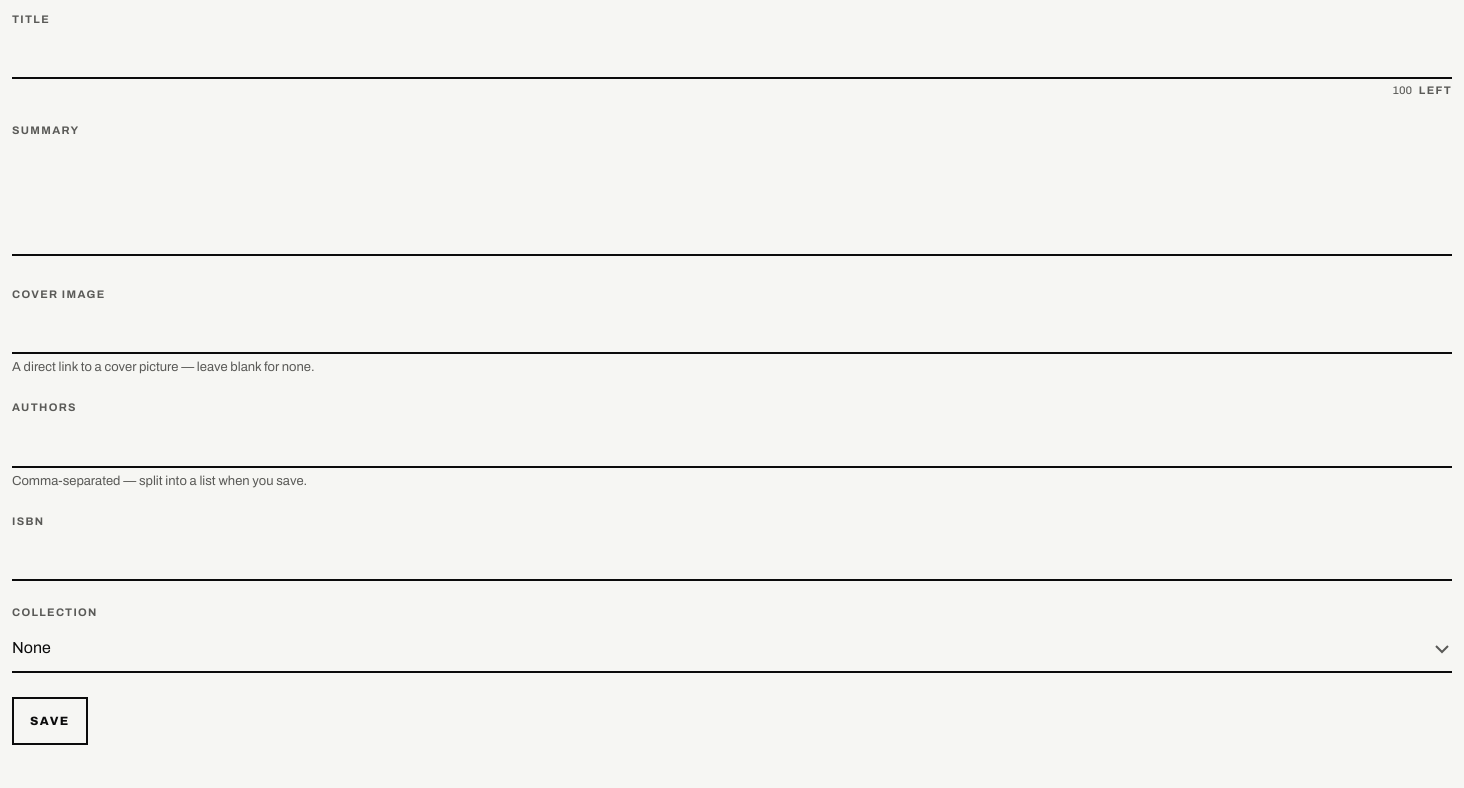
Test: ItemForm › keeps the order field out of the form until a collection is chosen
This screenshot has width=1464, height=788.
Expected: the field labelled "order in the collection" is not shown
Select "Melville" in the dropdown labelled "Collection" at (732, 648), box [12,624,1452,672]
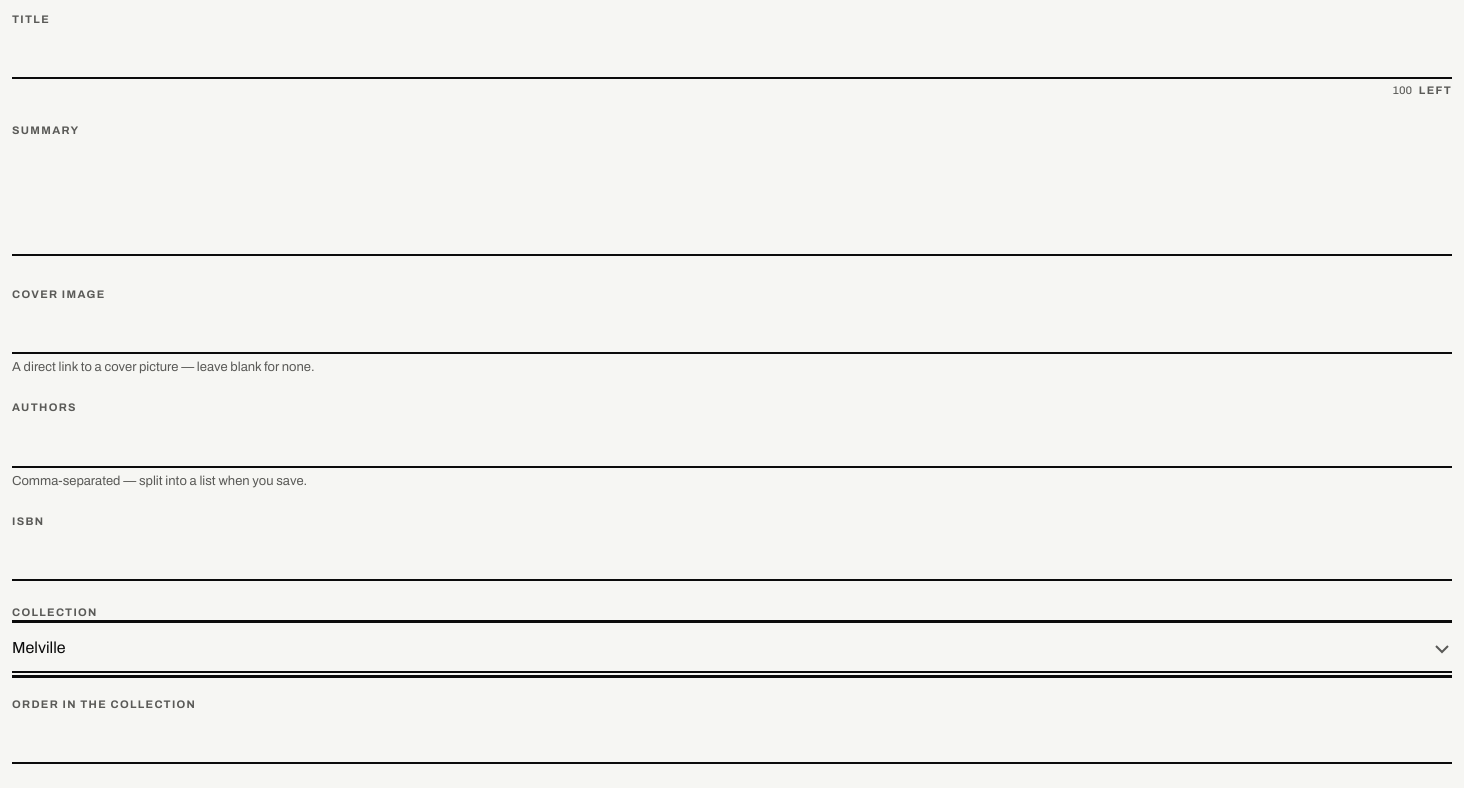
Expected: the number field labelled "Order in the collection" is shown, [12,716,1452,764]
